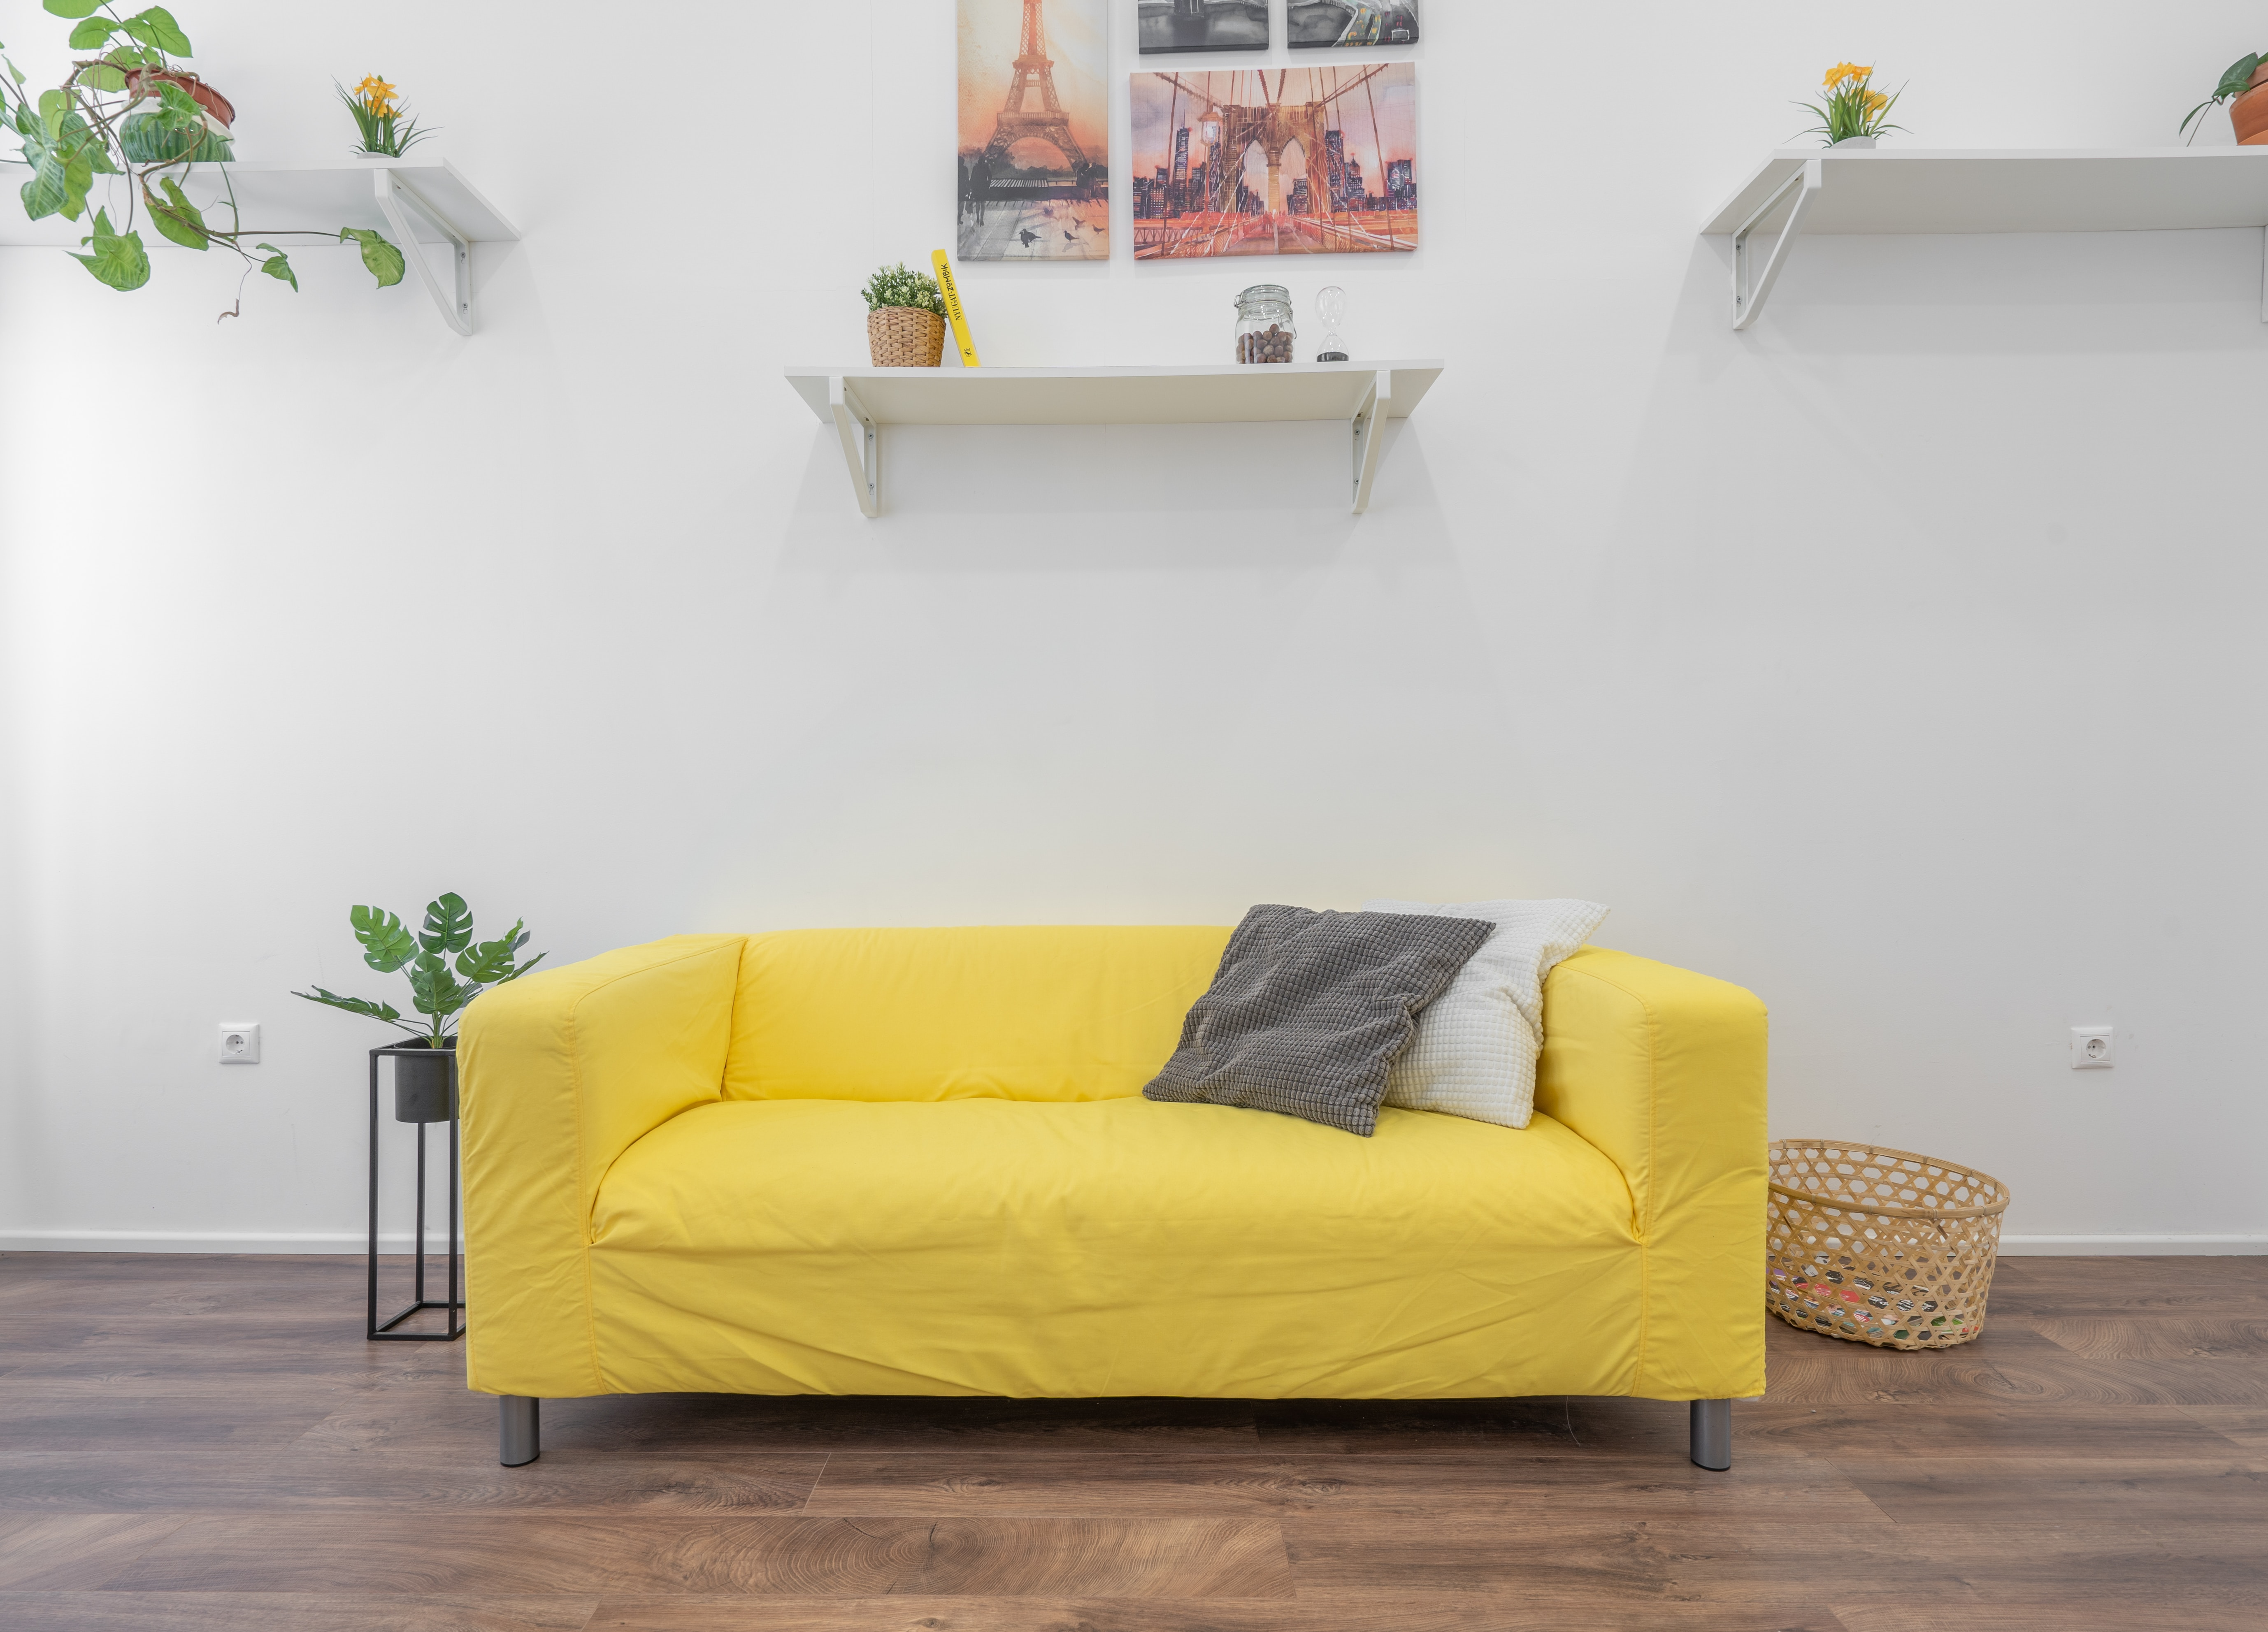Painting: (1127, 67, 1425, 258), (952, 0, 1116, 269)
Plant: (282, 871, 551, 1129)
Sofa: (452, 906, 1783, 1481)
